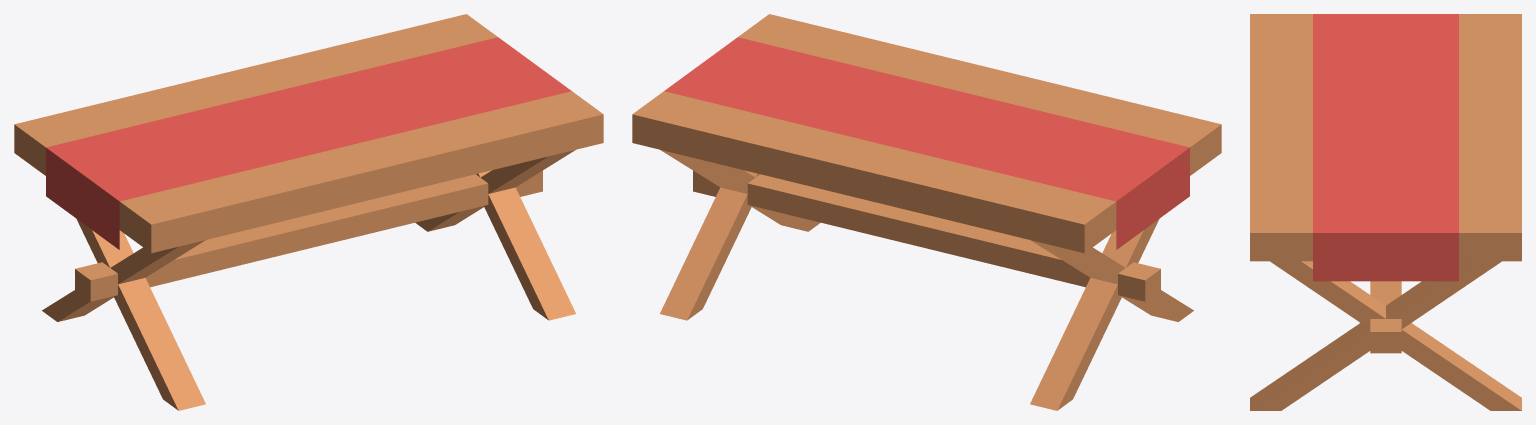
File: tableCrossCloth.glb
The picture shows the model from 3 angles, left to right: view 1: azimuth 30°, elevation 25°; view 2: azimuth 150°, elevation 25°; view 3: azimuth 270°, elevation 25°; orthographic projection.
Visible parts, largest first — view 1: tableCrossCloth; view 2: tableCrossCloth; view 3: tableCrossCloth.
Part boxes in pixels (<box>): tableCrossCloth: <box>14,14,603,410</box>; tableCrossCloth: <box>632,14,1221,410</box>; tableCrossCloth: <box>1250,14,1521,410</box>.
Size of the model in its own units: 1.86 by 0.7586 by 0.9769.
